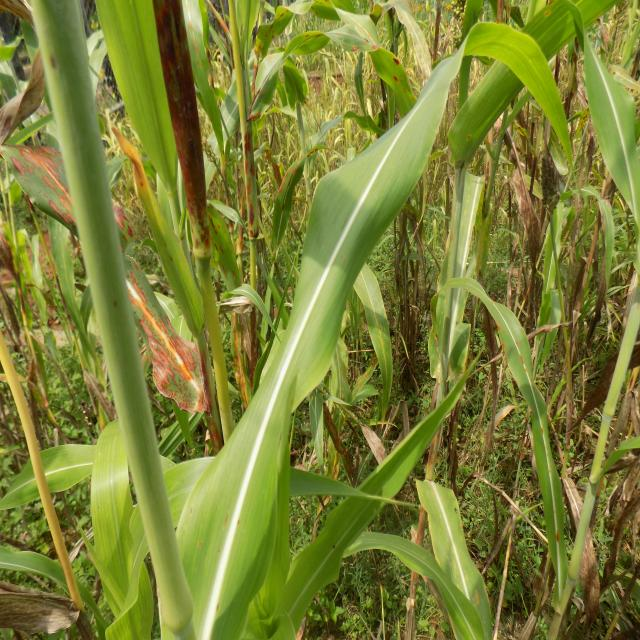millet_healthy: (180, 61, 456, 640), (90, 425, 154, 640), (415, 475, 492, 640), (581, 23, 640, 225), (4, 442, 97, 522), (355, 265, 394, 419)
millet_rust: (4, 142, 210, 430), (461, 278, 599, 593)
